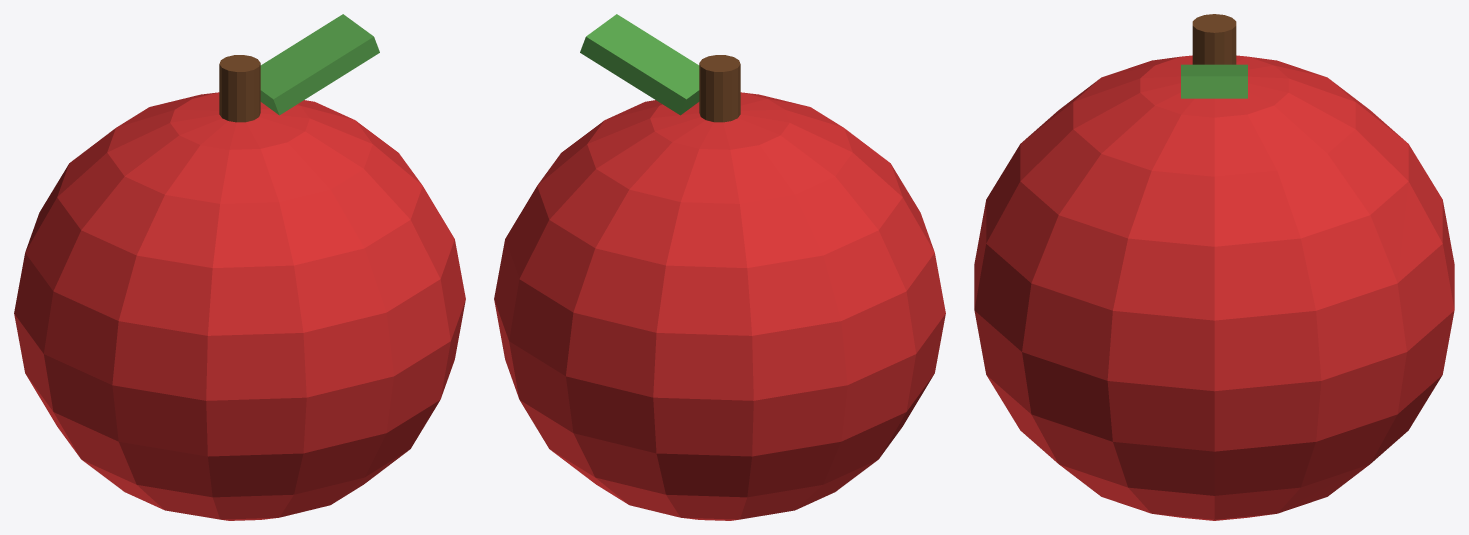
The model's file is Item_Hunger.obj.
3 views of the same model, side by side, from view 1: azimuth 30°, elevation 25°; view 2: azimuth 150°, elevation 25°; view 3: azimuth 270°, elevation 25° (orthographic). The views are drawn at different scales.
Parts seen in each view (by area): view 1: Item_Hunger; view 2: Item_Hunger; view 3: Item_Hunger.
Part boxes in pixels (box(x1,y1,x2,y2)): Item_Hunger: box(14, 14, 465, 520); Item_Hunger: box(494, 14, 945, 520); Item_Hunger: box(974, 14, 1454, 520).
Size of the model in its own units: 0.44 by 0.4789 by 0.429.
